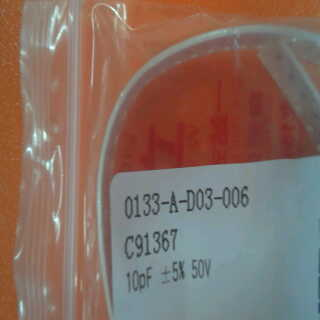10pF: (119, 262, 158, 294)
